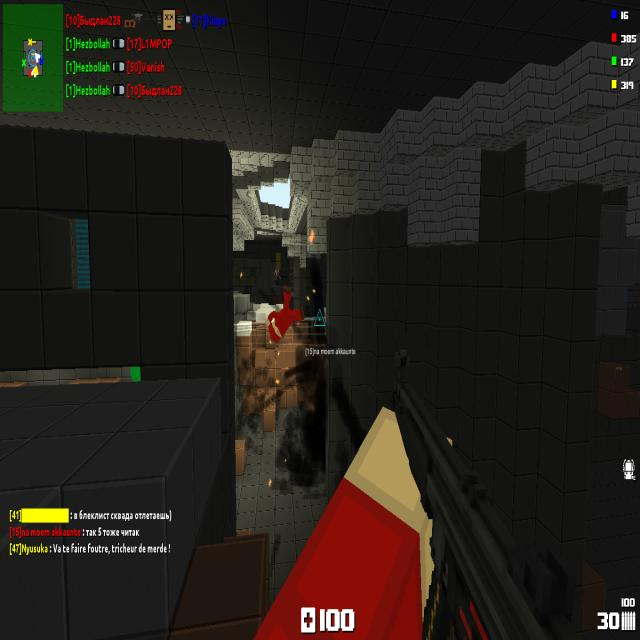enemy: (129, 365, 142, 382), (273, 268, 280, 284)
